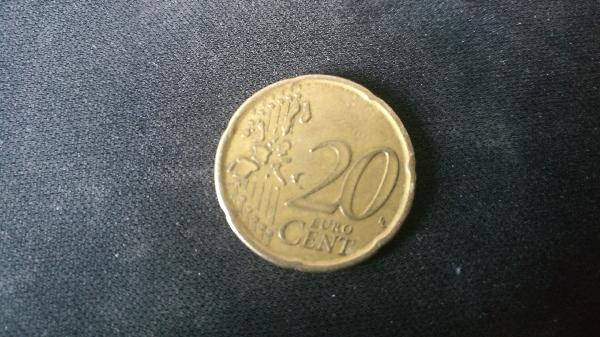Twenty Cent: (212, 72, 424, 274)
